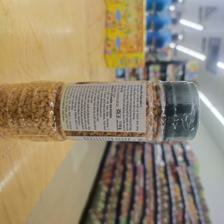TayNinh_green: (1, 80, 199, 141)
